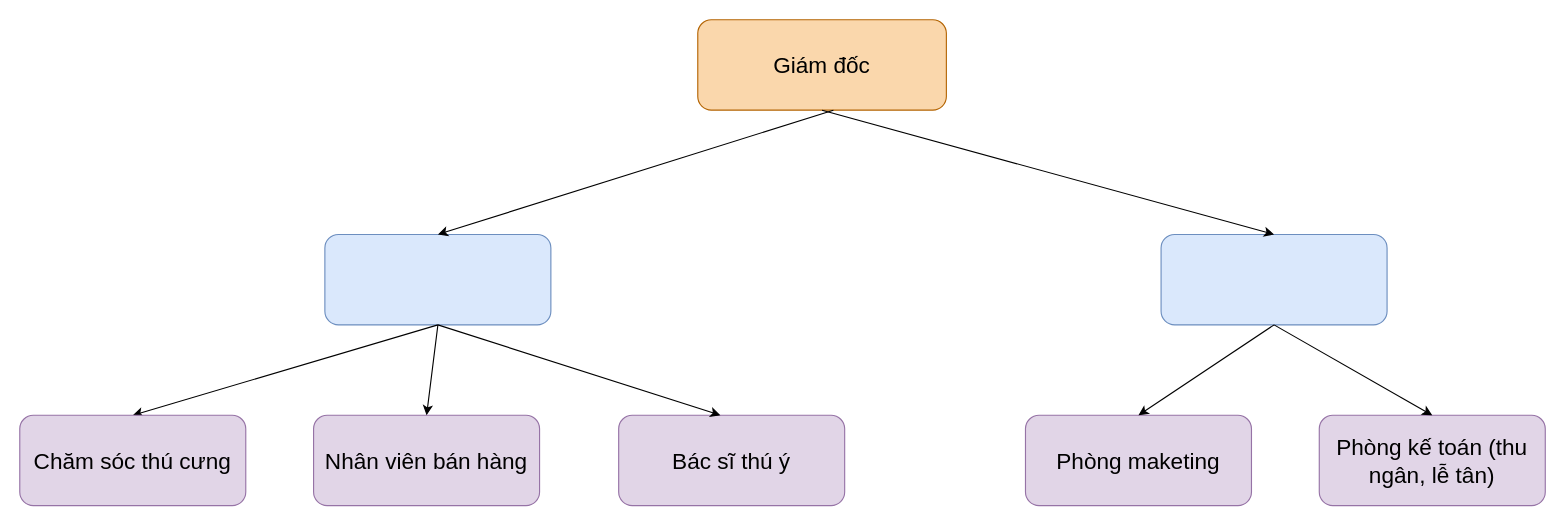
Some shapes in this 1565 by 525 pixel diagram are drawn without their labels. Each missing label, with the centre of its shape:
"Phòng dịch vụ" belongs at (x=437, y=279).
"Phòng kinh doanh" belongs at (x=1273, y=279).
